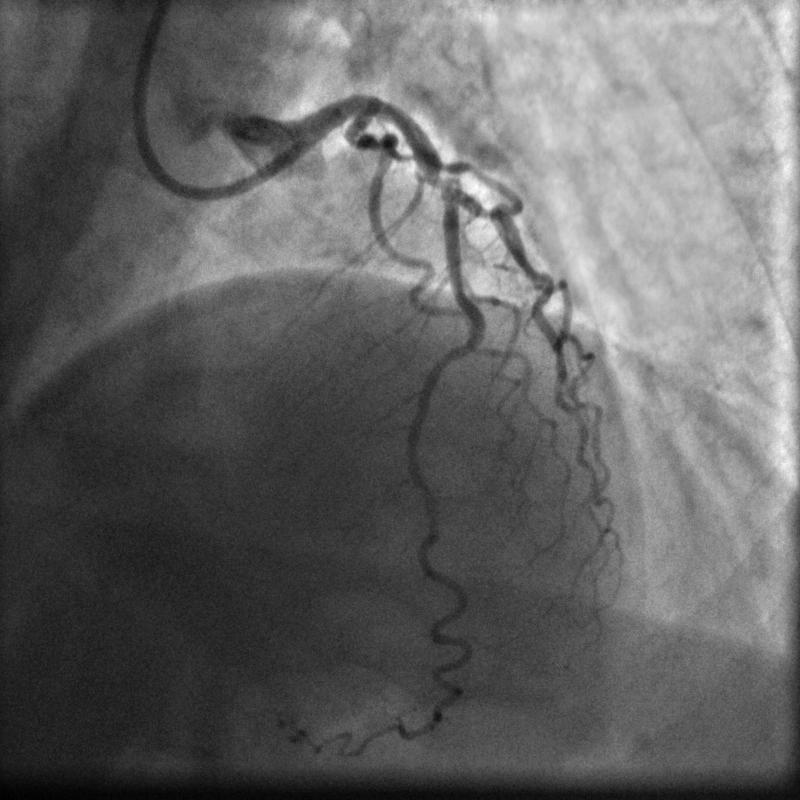Stenosis: (417, 168, 454, 194)
